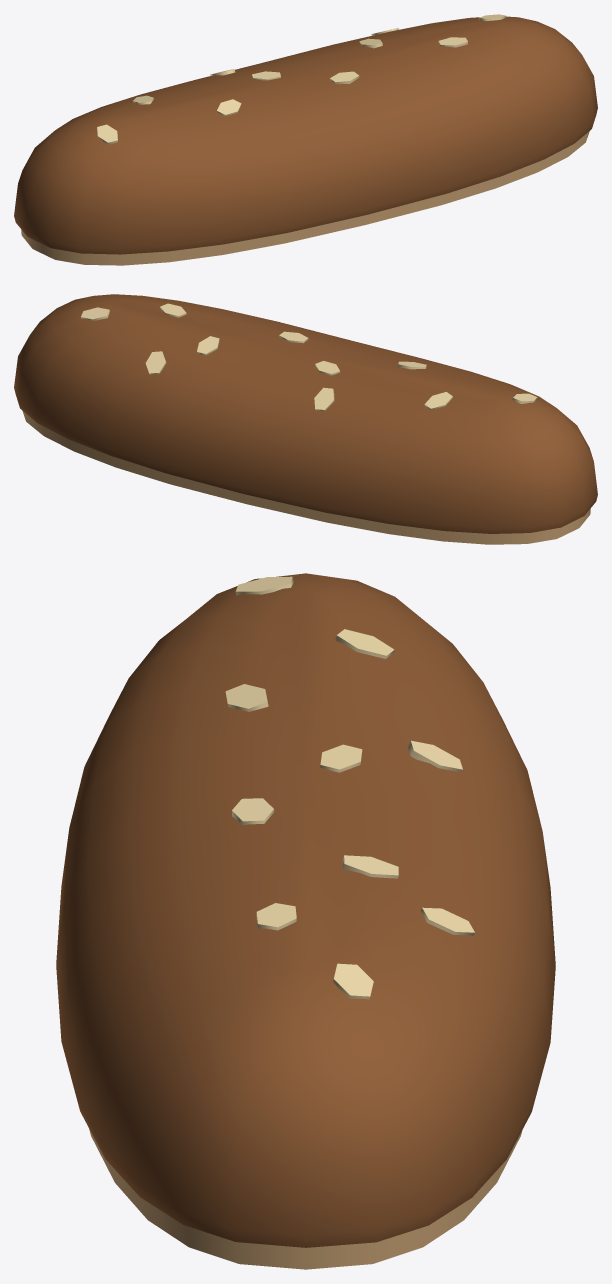
Rendered from Food_WheatSub_Top.fbx.
3 views of the same model, one above another, from view 1: azimuth 30°, elevation 25°; view 2: azimuth 150°, elevation 25°; view 3: azimuth 270°, elevation 25° (orthographic). The views are drawn at different scales.
Visible parts, largest first — view 1: Crust, Crumb, Oats; view 2: Crust, Crumb, Oats; view 3: Crust, Oats, Crumb.
Part boxes in pixels (x1,y1,x2,y2): Crust: [14, 16, 597, 254]; Crumb: [21, 131, 589, 265]; Oats: [97, 14, 506, 145]; Crust: [14, 294, 597, 533]; Crumb: [22, 410, 590, 544]; Oats: [81, 303, 537, 410]; Crust: [56, 573, 555, 1247]; Oats: [225, 576, 474, 999]; Crumb: [89, 1128, 522, 1269].
Bounding box in the file's own units: 220 × 42.88 × 85.
